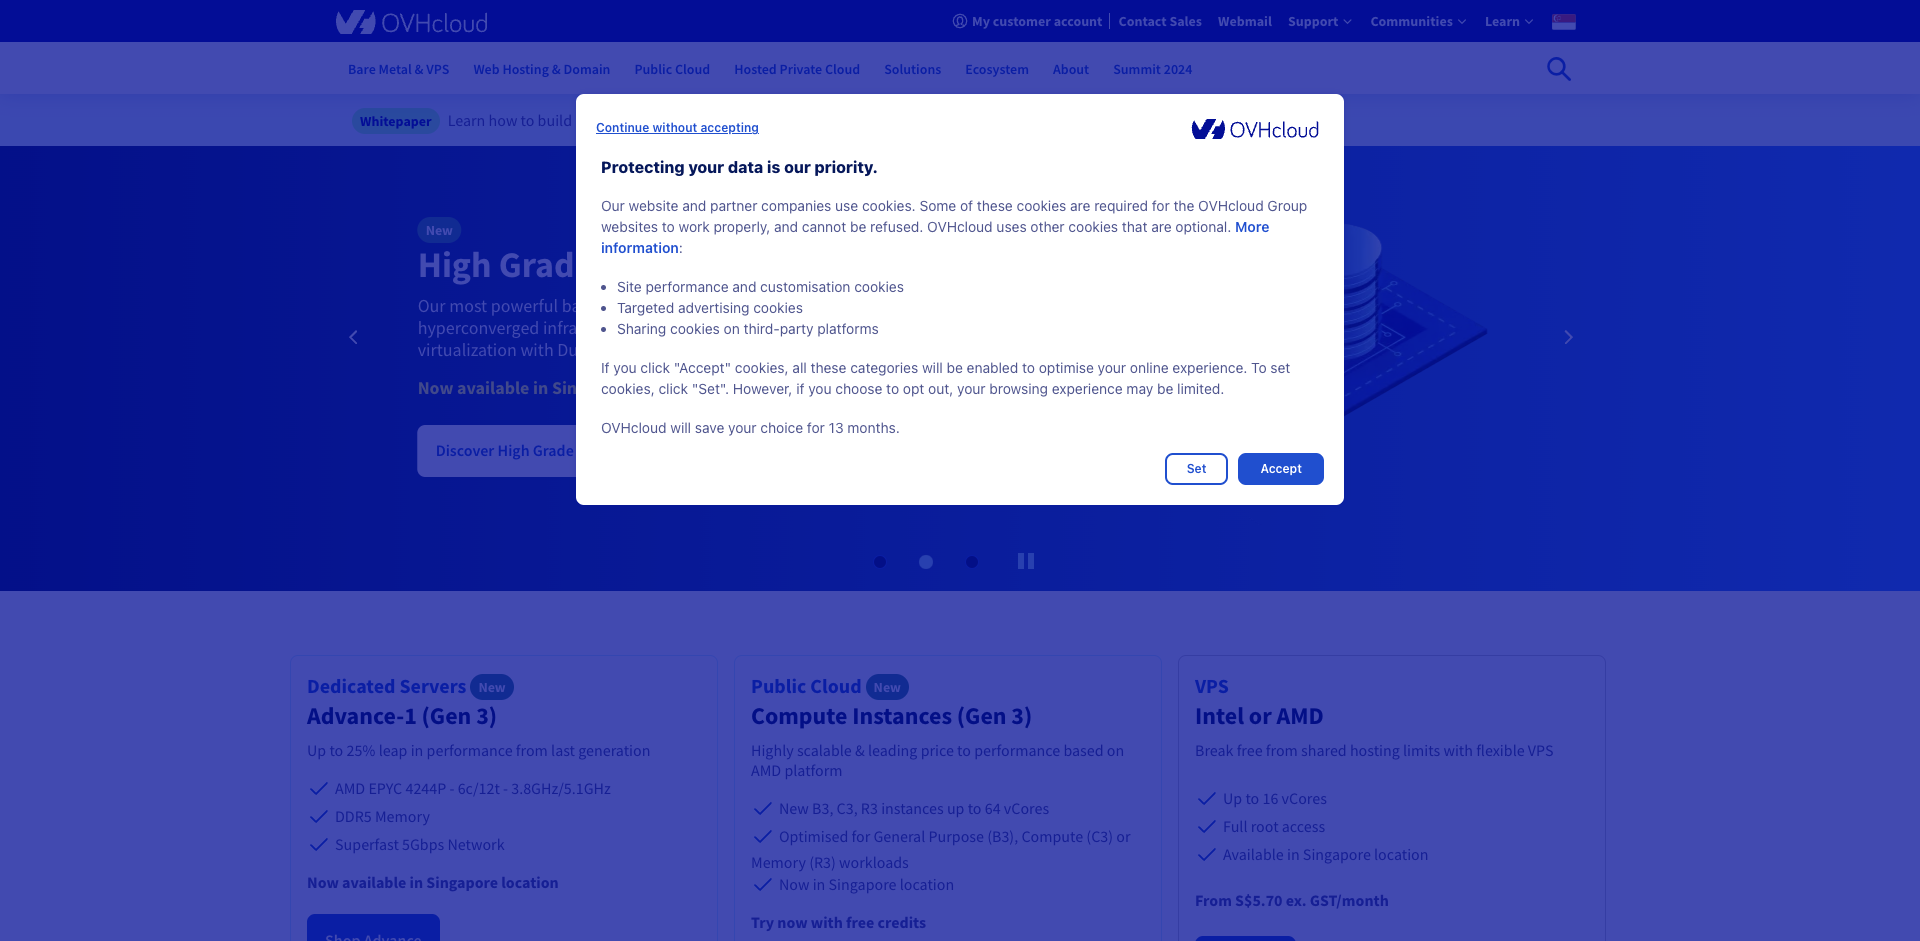button: (591, 448, 1329, 490), (414, 420, 596, 480), (418, 425, 591, 477), (1538, 372, 1684, 433), (1543, 377, 1679, 429), (436, 426, 574, 474), (1560, 379, 1662, 426), (596, 114, 759, 142), (1370, 0, 1469, 42), (996, 533, 1063, 591), (307, 914, 440, 941), (307, 914, 440, 941), (1842, 807, 1896, 861), (1288, 0, 1354, 42), (1238, 453, 1324, 485), (436, 441, 574, 461), (1534, 44, 1584, 94), (324, 916, 421, 941), (1485, 0, 1536, 42), (1164, 453, 1228, 485), (1560, 393, 1662, 413), (336, 323, 370, 355), (1550, 323, 1584, 355), (324, 930, 421, 941), (1551, 0, 1576, 42), (1551, 2, 1576, 39), (864, 548, 895, 577), (911, 548, 940, 577), (958, 548, 987, 577), (1195, 936, 1296, 941), (1195, 936, 1296, 941), (965, 555, 980, 569), (873, 555, 887, 569), (920, 555, 933, 569), (1213, 939, 1278, 941)
icon: (951, 12, 969, 29)
link: (733, 656, 1162, 941), (1178, 656, 1607, 941), (290, 656, 718, 941), (601, 218, 1270, 256), (469, 47, 615, 94), (730, 47, 864, 94), (951, 0, 1102, 42), (344, 47, 453, 94), (1616, 360, 1681, 426), (1109, 47, 1196, 94), (631, 47, 714, 94), (1118, 0, 1202, 42), (1616, 711, 1670, 776), (961, 47, 1033, 94), (880, 47, 945, 94), (336, 10, 487, 29), (1616, 850, 1660, 916), (1616, 430, 1653, 496), (1616, 570, 1653, 636), (1616, 500, 1651, 566), (1616, 780, 1651, 847), (1218, 0, 1272, 42), (1049, 47, 1093, 94), (1616, 640, 1642, 706), (834, 110, 907, 130), (1616, 920, 1663, 941), (1321, 38, 1337, 83), (1321, 83, 1337, 129), (1419, 83, 1435, 129), (1511, 145, 1527, 190), (1511, 190, 1527, 235), (1511, 266, 1527, 311), (1321, 129, 1337, 173), (1511, 100, 1527, 145), (1511, 374, 1527, 418), (1511, 69, 1527, 100), (1511, 342, 1527, 374), (1419, 129, 1435, 159), (1511, 38, 1527, 69), (1511, 235, 1527, 266), (1511, 311, 1527, 342)
menu_item: (1419, 38, 1435, 83)
